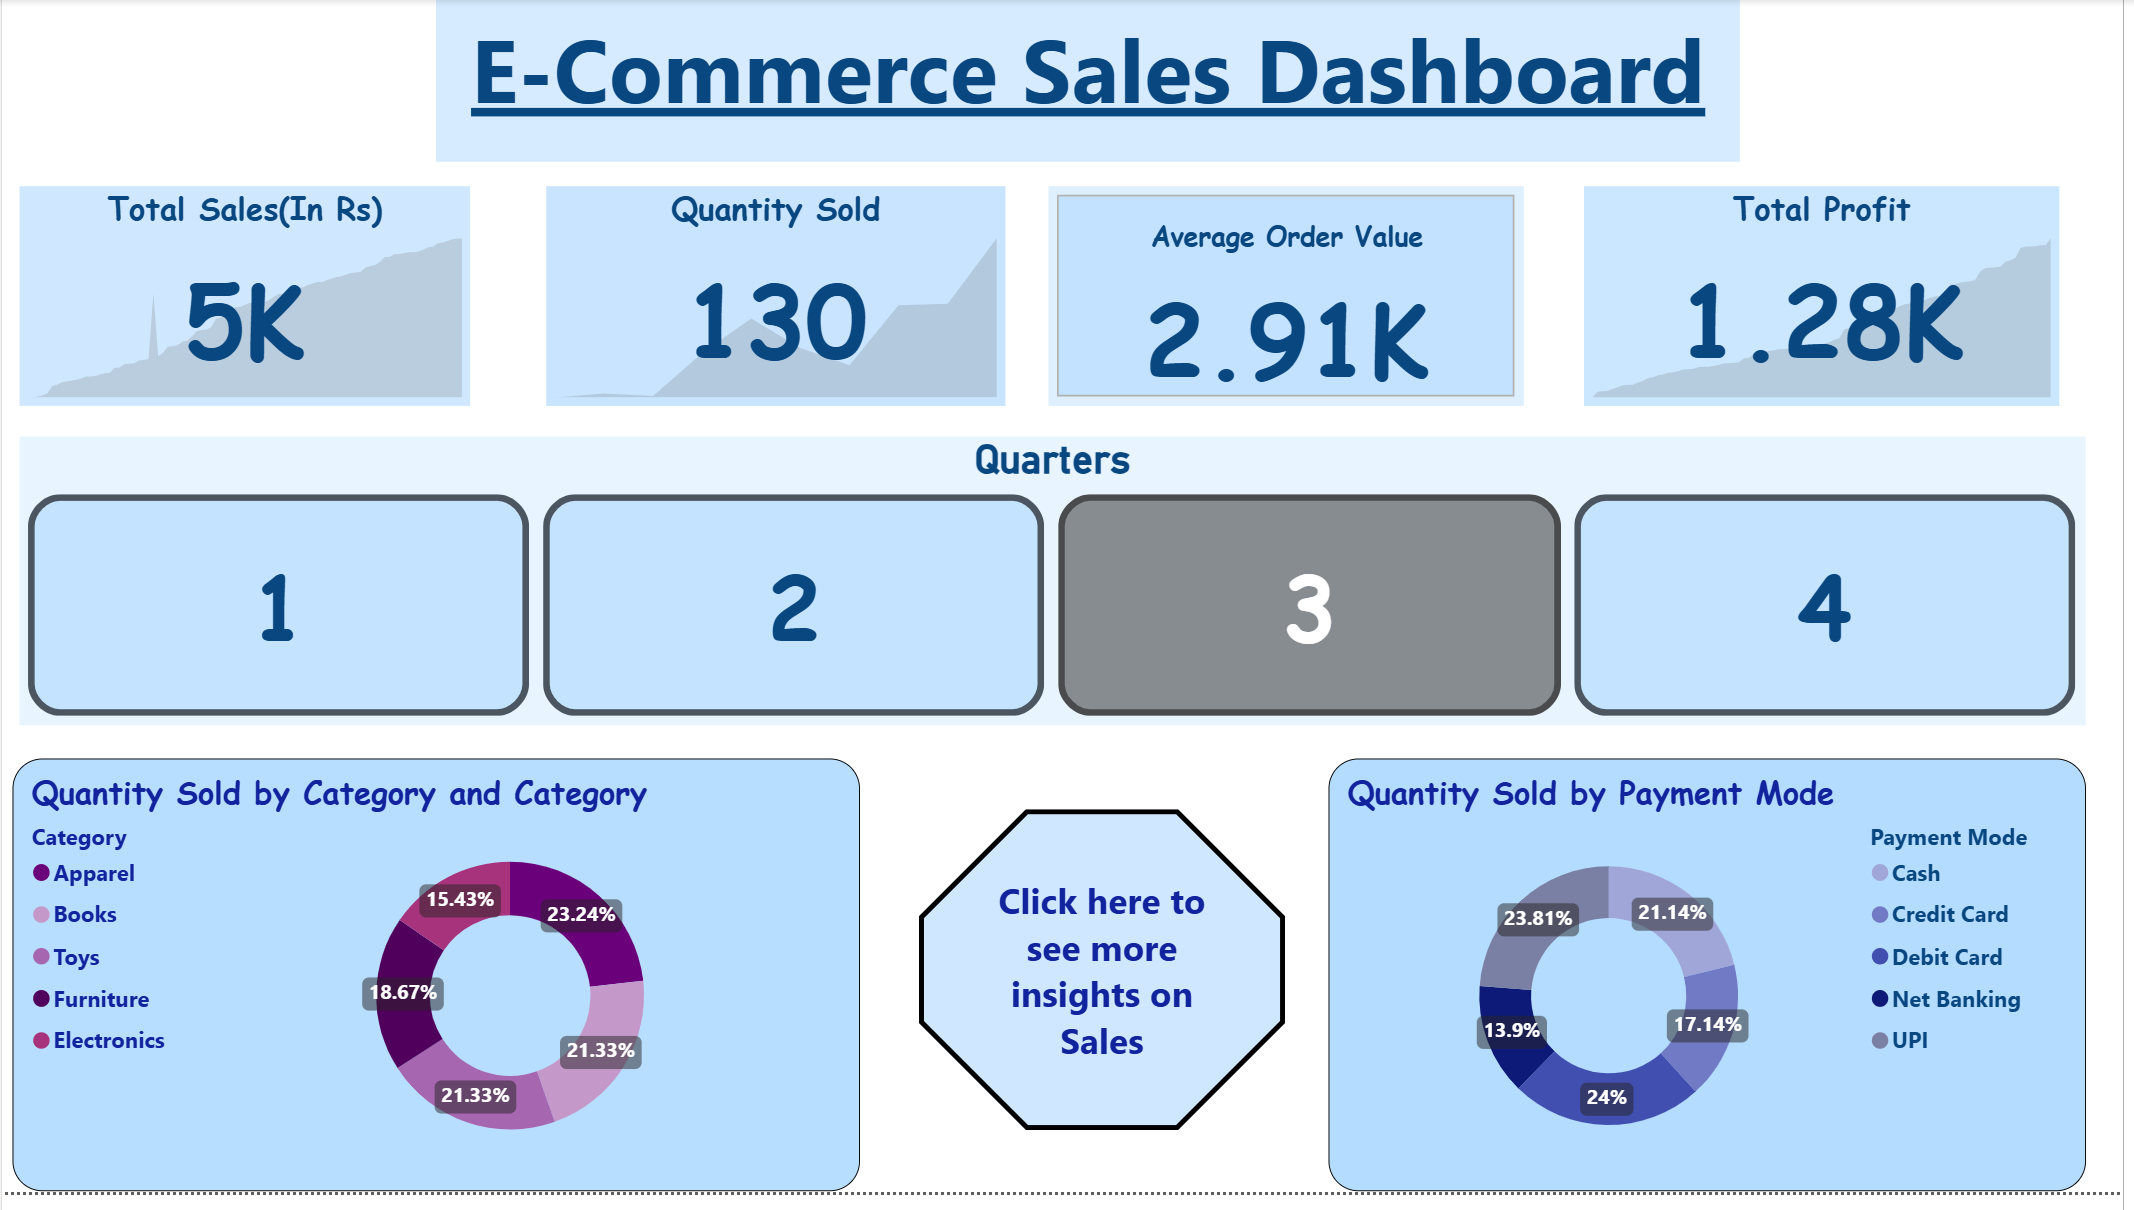

The page's visual inventory and layout, read from the dashboard file:
{"tool":"powerbi","page":{"name":"Home Page","canvas":[1280,720],"ordinal":0},"visuals":[{"type":"textbox","box":[262.4,0,787.1,98.1],"z":0},{"type":"kpi","title":"Total Sales(In Rs)","fields":{"Indicator":["Sum(Orders_Enriched.Amount)"],"TrendLine":["Orders_Enriched.Amount"]},"box":[11,112.8,272.2,132.4],"z":1000},{"type":"kpi","title":" Quantity Sold ","fields":{"TrendLine":["Orders_Enriched.Quantity Sold"],"Indicator":["Sum(Orders_Enriched.Quantity Sold)"]},"box":[328.6,112.8,277.1,132.4],"z":2000},{"type":"kpi","title":"Total Profit ","fields":{"Indicator":["Sum(Orders_Enriched.Profit)"],"TrendLine":["Orders_Enriched.Profit"]},"box":[955.1,112.8,286.9,132.4],"z":3000},{"type":"cardVisual","fields":{"Data":["Orders_Enriched.AOV"]},"box":[631.4,112.8,286.9,132.4],"z":4000},{"type":"advancedSlicerVisual","title":"Quarters","fields":{"Values":["Orders_Enriched.Quarter"]},"box":[11,263.6,1246.9,174.1],"z":5000},{"type":"donutChart","title":"Quantity Sold by Category and Category","fields":{"Y":["Sum(Orders_Enriched.Quantity Sold)"],"Series":["Orders_Enriched.Category"],"Category":["Orders_Enriched.Category"]},"box":[6.1,458.5,511.3,261.1],"z":5001},{"type":"donutChart","title":"Quantity Sold by Payment Mode","fields":{"Y":["Sum(Orders_Enriched.Quantity Sold)"],"Series":["Orders_Enriched.Payment Mode"]},"box":[800.6,458.5,457.3,261.1],"z":5002},{"type":"actionButton","box":[553.5,489,220.9,193.6],"z":5003}]}

Visuals, with their boxes in screenshot pixels (x1, y1, x2, y2), scaled from the page's 1280x720 canvas onto the 2134x1210 screenshot:
textbox: [left=437, top=0, right=1750, bottom=165]
"Total Sales(In Rs)" kpi: [left=18, top=190, right=472, bottom=412]
" Quantity Sold " kpi: [left=548, top=190, right=1010, bottom=412]
"Total Profit " kpi: [left=1592, top=190, right=2071, bottom=412]
cardVisual - Orders_Enriched.AOV: [left=1053, top=190, right=1531, bottom=412]
"Quarters" advancedSlicerVisual: [left=18, top=443, right=2097, bottom=736]
"Quantity Sold by Category and Category" donutChart: [left=10, top=771, right=863, bottom=1209]
"Quantity Sold by Payment Mode" donutChart: [left=1335, top=771, right=2097, bottom=1209]
actionButton: [left=923, top=822, right=1291, bottom=1147]
